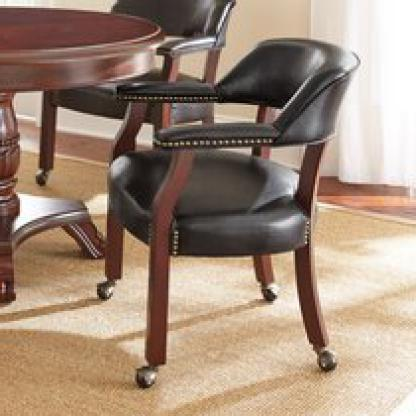chair: (110, 39, 366, 385), (31, 0, 239, 148)
table: (0, 2, 163, 306)
